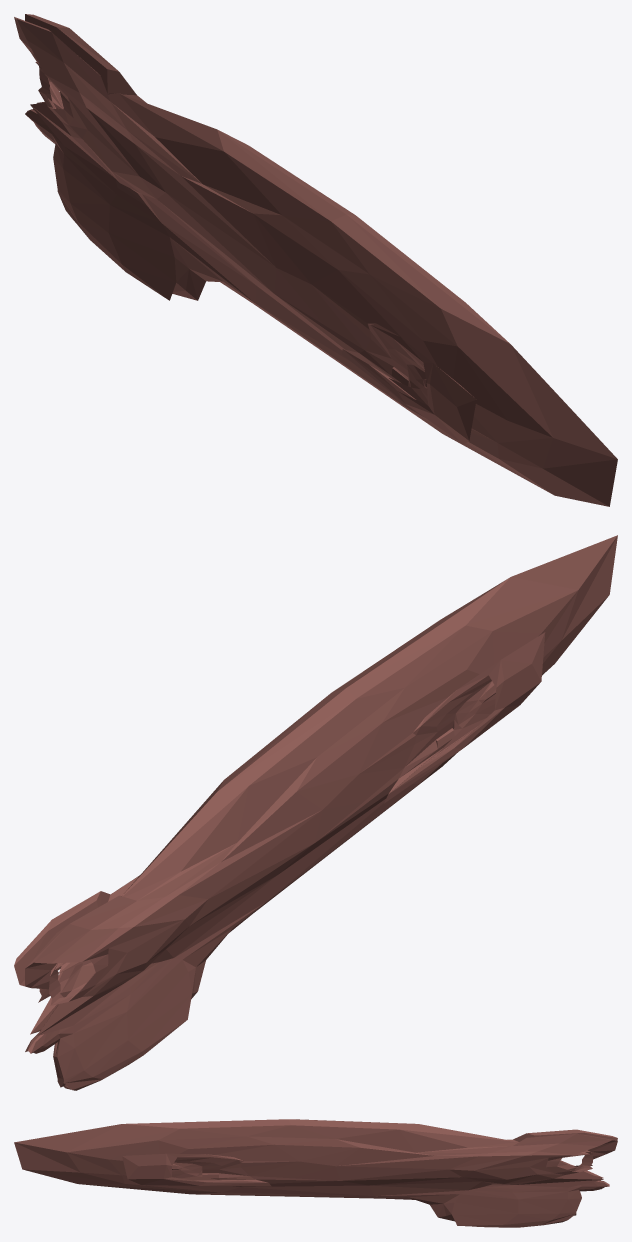
3 views of the same model, one above another, from view 1: azimuth 30°, elevation 25°; view 2: azimuth 150°, elevation 25°; view 3: azimuth 270°, elevation 25° (orthographic). The views are drawn at different scales.
Visible parts, largest first — view 1: tmp_export_Cube.066; view 2: tmp_export_Cube.066; view 3: tmp_export_Cube.066.
Part boxes in pixels (x1,y1,x2,y2): tmp_export_Cube.066: (14,14,617,506); tmp_export_Cube.066: (14,535,617,1090); tmp_export_Cube.066: (14,1119,617,1227).
Bounding box in the file's own units: 0.1208 × 1.67 × 0.3299.
